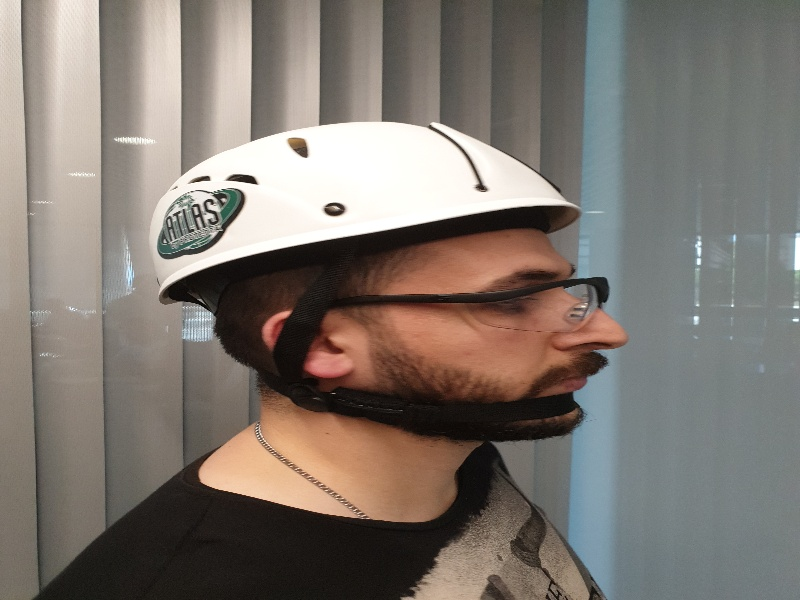Baret: (148, 121, 586, 269)
Gozluk: (331, 274, 616, 331)
